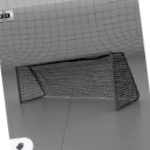goals: (14, 49, 141, 114)
